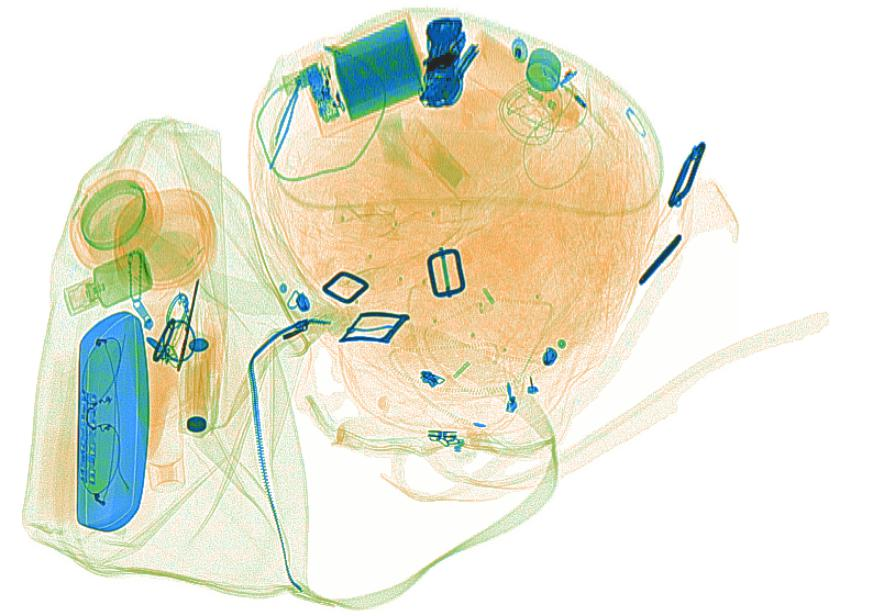plasticBottleWithaNozzle: (460, 29, 590, 132)
